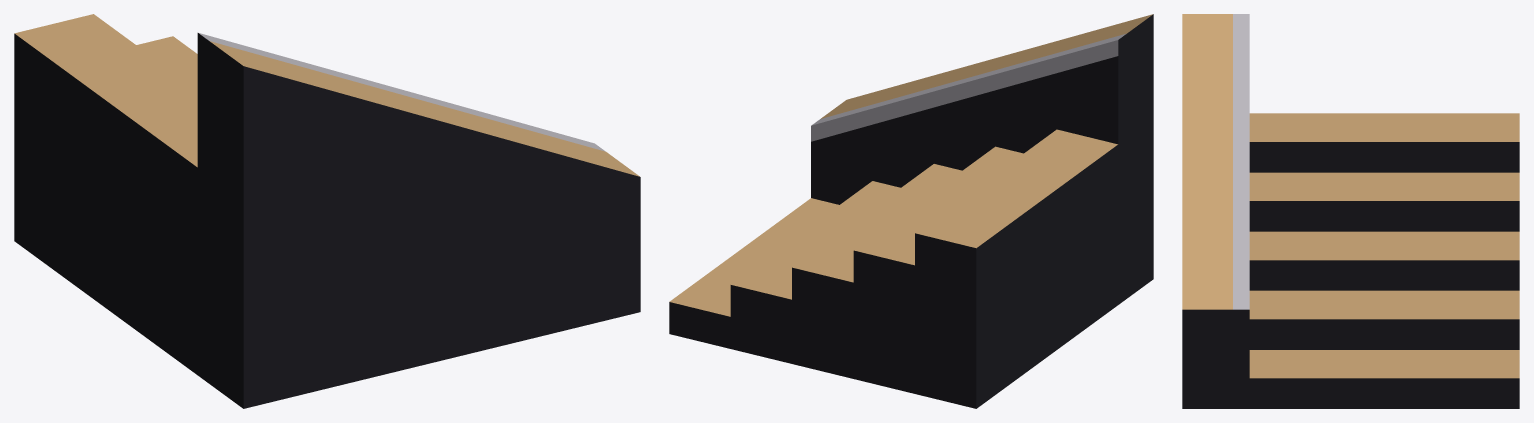
The model's file is Ledge_Stairs_SML_L.fbx.
3 views of the same model, side by side, from view 1: azimuth 30°, elevation 25°; view 2: azimuth 150°, elevation 25°; view 3: azimuth 270°, elevation 25° (orthographic). The views are drawn at different scales.
Parts seen in each view (by area): view 1: Ledge_Stairs_SML_L; view 2: Ledge_Stairs_SML_L; view 3: Ledge_Stairs_SML_L.
Boxes of the visible parts, bbox=[...] form: Ledge_Stairs_SML_L: bbox=[14, 14, 640, 408]; Ledge_Stairs_SML_L: bbox=[669, 14, 1153, 408]; Ledge_Stairs_SML_L: bbox=[1182, 14, 1519, 408].
Bounding box in the file's own units: 10 × 8.25 × 10.
